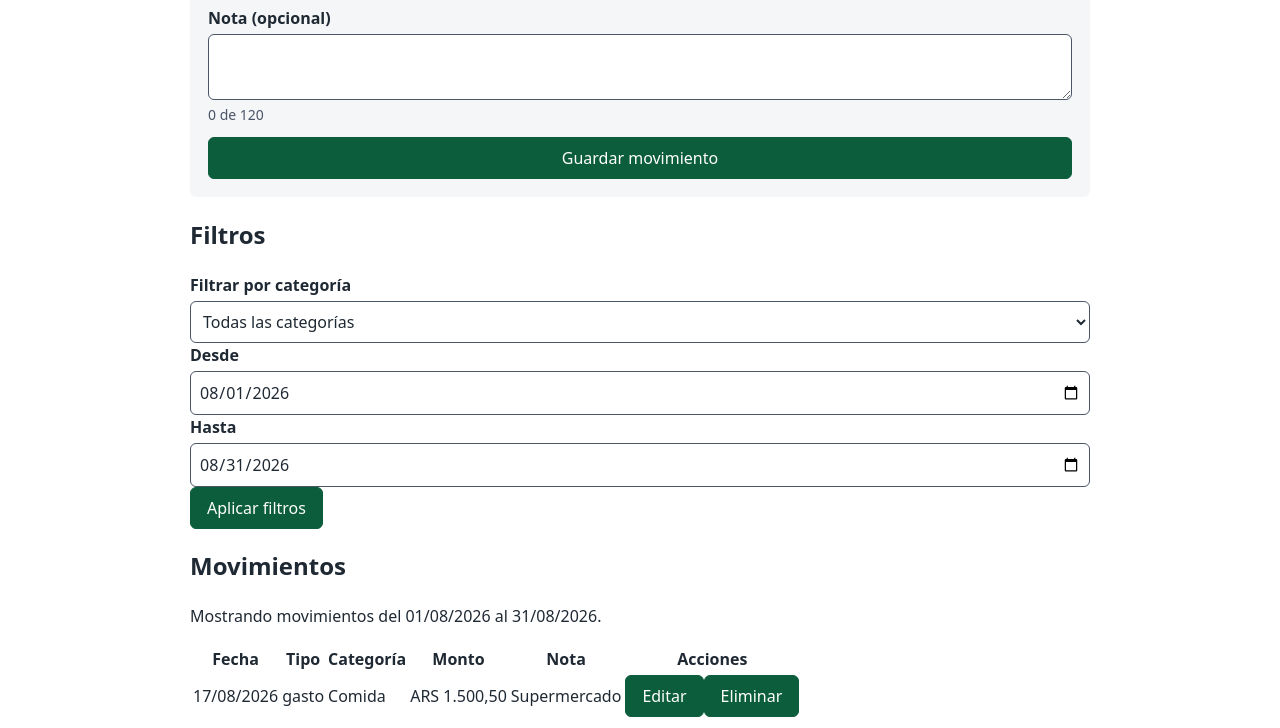
Test: App › Editar_ConMovimientoYaBorrado_MuestraElMensajeYRefresca
(page scrolled)
Expected: the text "ARS 1.500,50" is shown, [409, 674, 508, 718]
Click the button with aria-label "Editar el movimiento del 17/08/2026 de Comida" at (664, 696), box [625, 675, 704, 717]
(page scrolled)
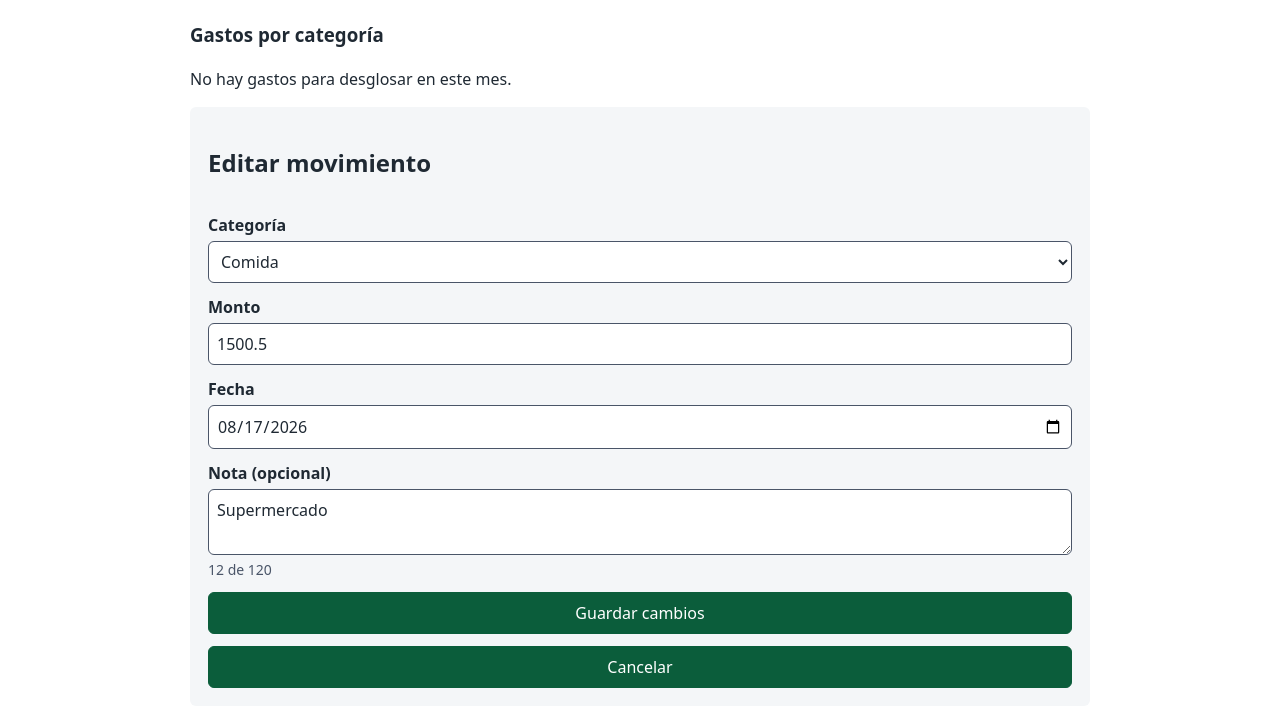
Expected: the heading "Editar movimiento" is shown, [208, 146, 431, 179]
Replace the text in the field labelled "Monto" with "2000" at (640, 344), box [208, 323, 1072, 365]
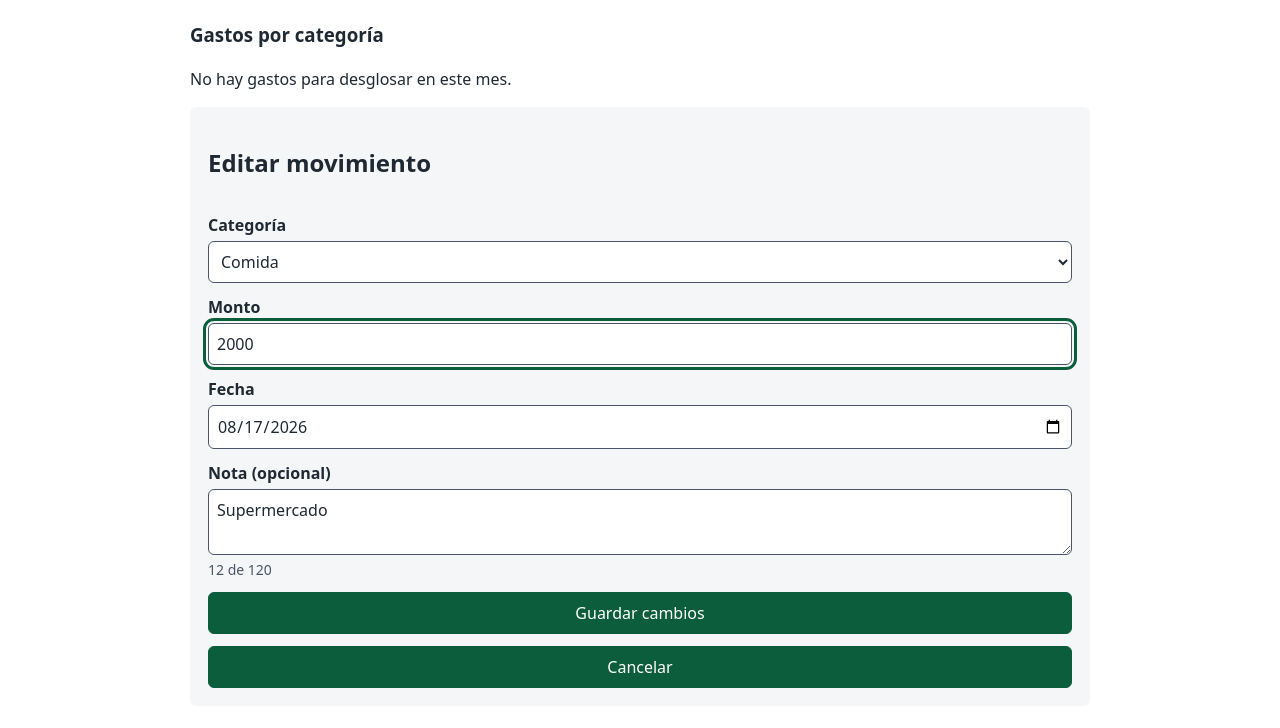
Click the button "Guardar cambios" at (640, 613), box [208, 592, 1072, 634]
(page scrolled)
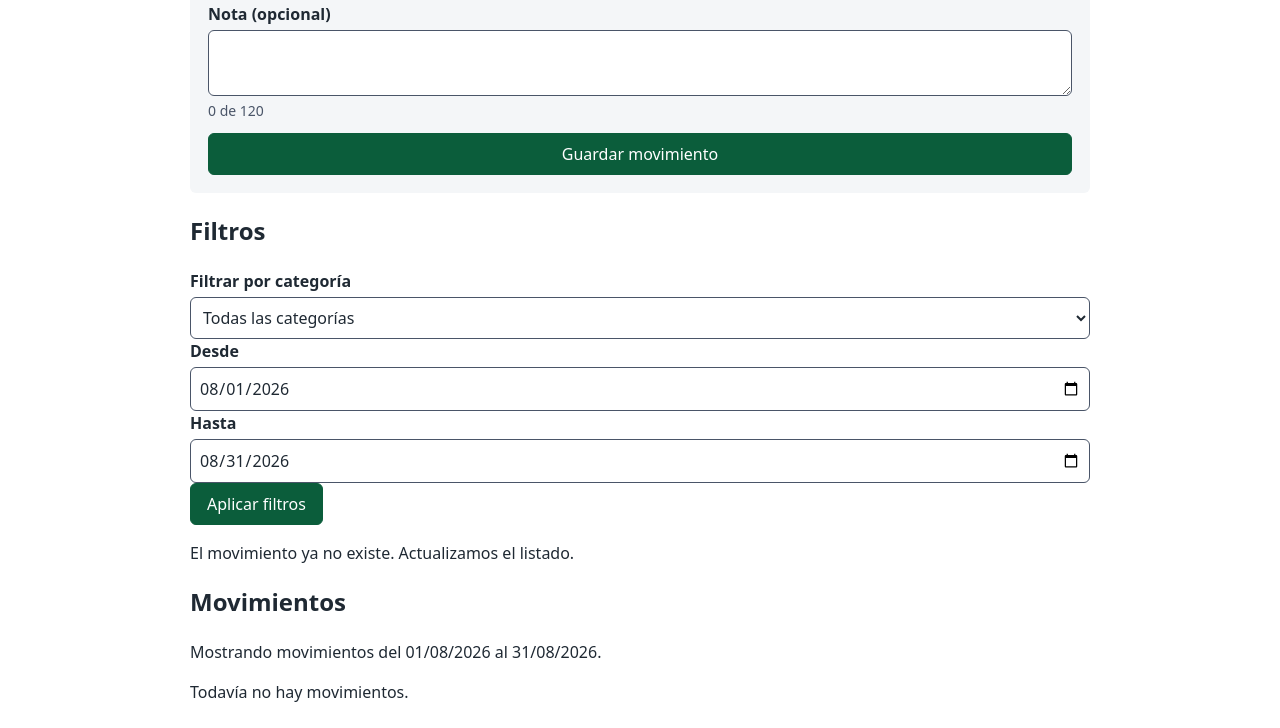
Expected: the text "El movimiento ya no existe. Actualizamos el listado." is shown, [190, 542, 574, 564]
Expected: the heading "Editar movimiento" is gone
